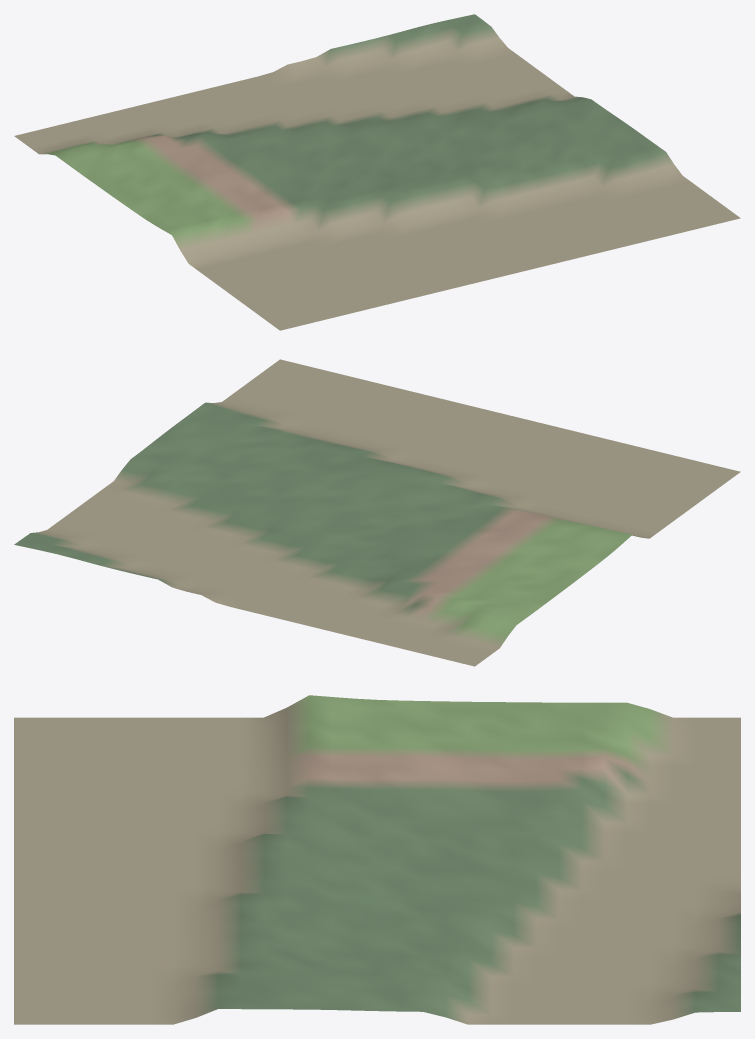
3 views of the same model, one above another, from view 1: azimuth 30°, elevation 25°; view 2: azimuth 150°, elevation 25°; view 3: azimuth 270°, elevation 25° (orthographic). The views are drawn at different scales.
Visible parts, largest first — view 1: Terrain-col; view 2: Terrain-col; view 3: Terrain-col.
Part boxes in pixels (x1,y1,x2,y2): Terrain-col: (14,14,740,330); Terrain-col: (14,359,740,666); Terrain-col: (14,695,740,1024).
Size of the model in its own units: 256 by 8.67 by 256.
